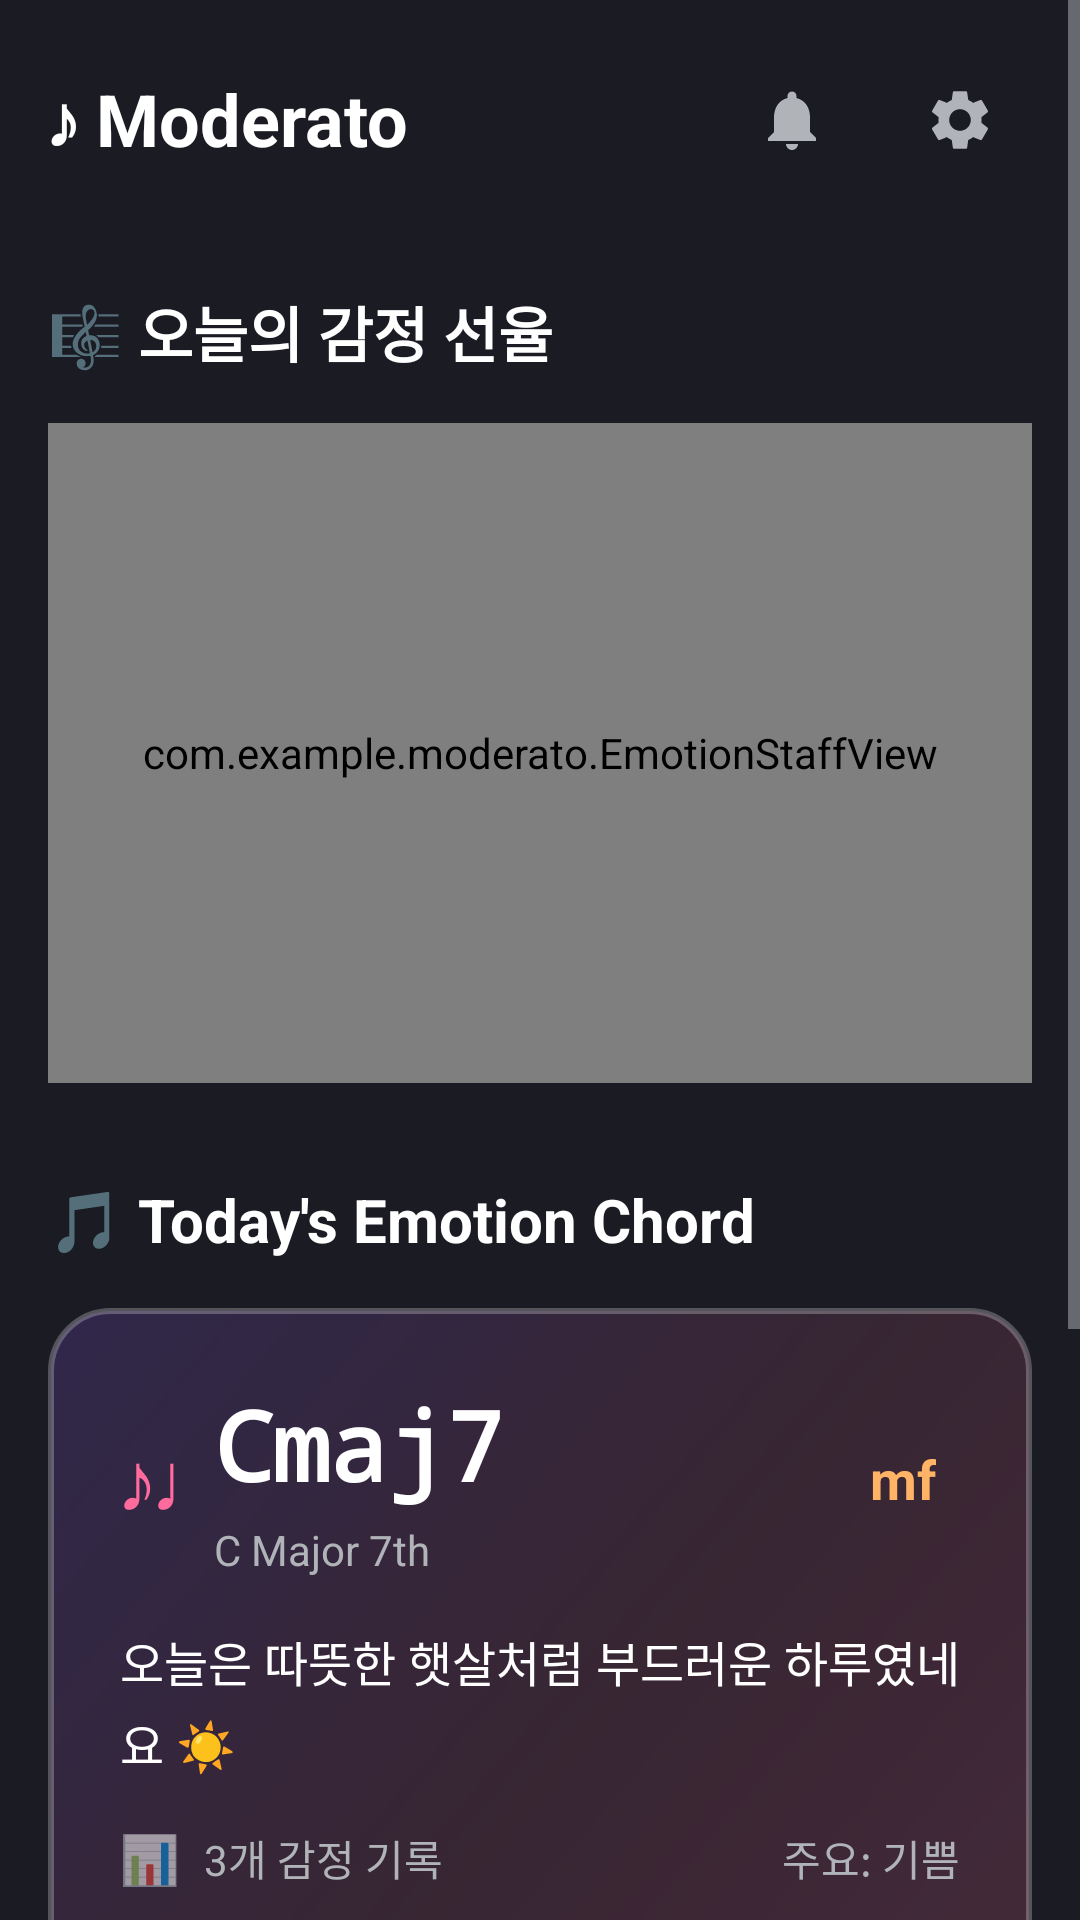

Icon click points for this 1080px x 1920px phone screenshot, format (x,y):
notification: (792,120)
settings: (960,120)
